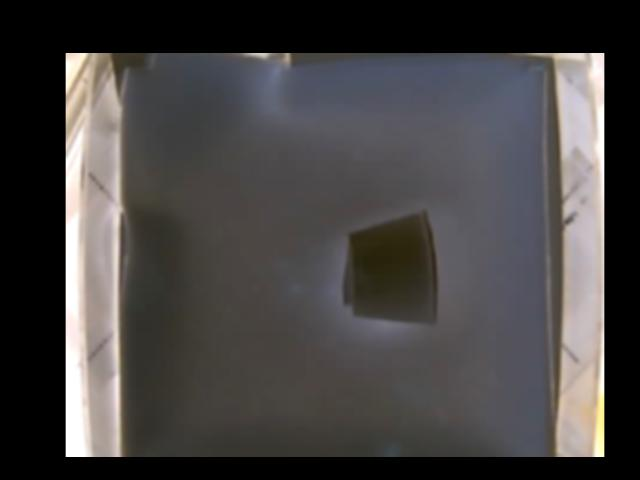Cup: (342, 209, 438, 327)
